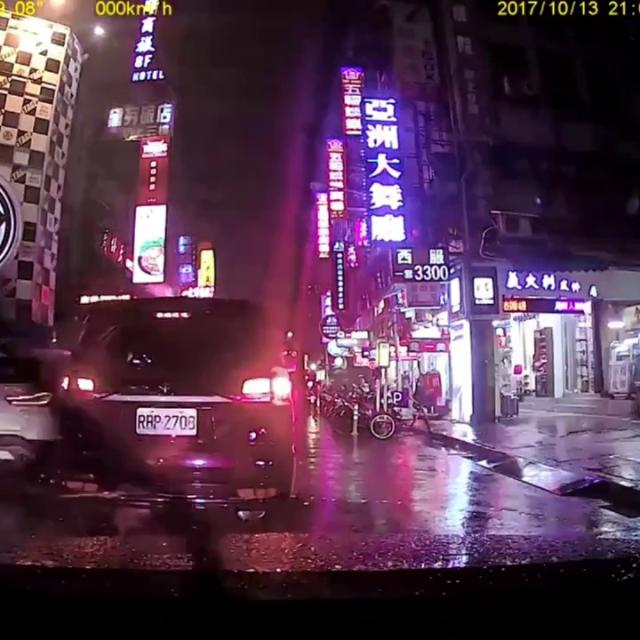Car: (48, 293, 297, 519), (0, 344, 70, 480)
